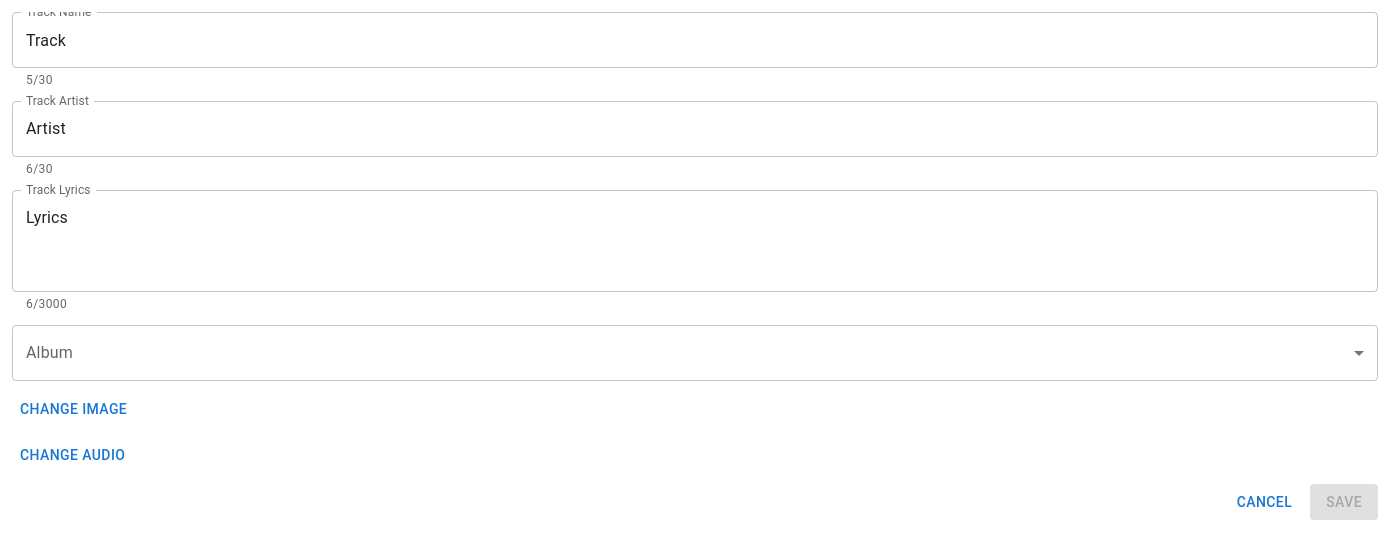
Test: EditTrackForm › renders the album options
The width and height of the screenshot is (1390, 537).
Click the dropdown named "Album". click: coordinates (695, 353)
box: [12,325,1378,381]
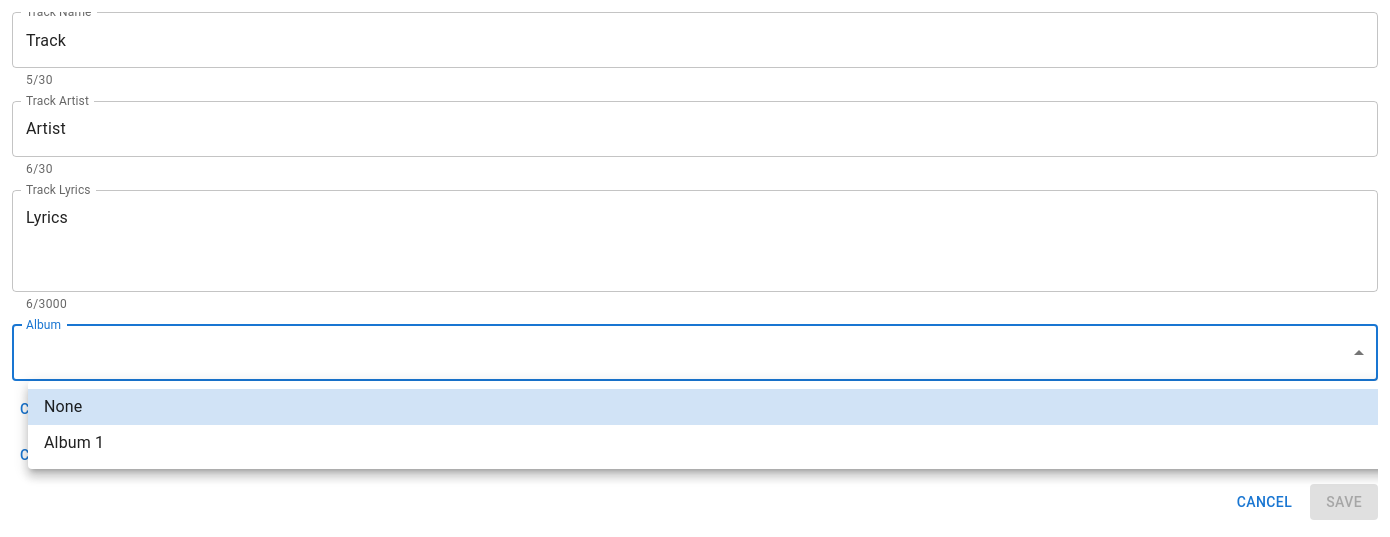
Expected: the option "Album 1" is shown, [44,433,104,452]
